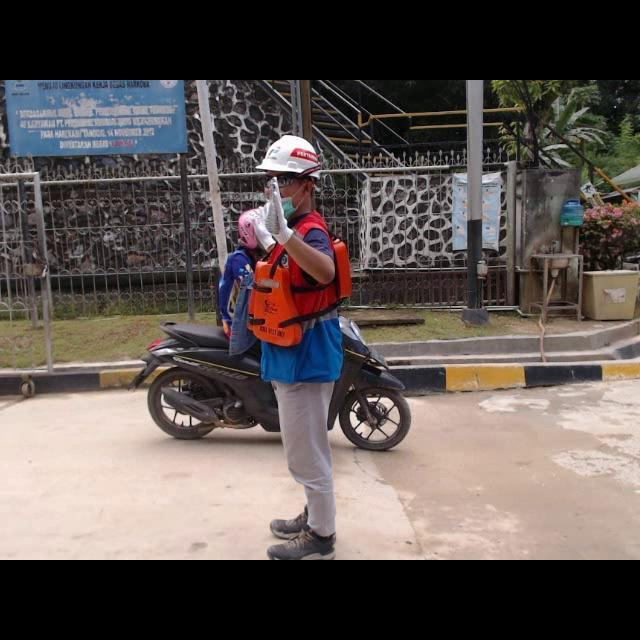Gloves: (260, 180, 291, 241), (251, 204, 274, 246)
Hardhat: (252, 130, 319, 176), (237, 205, 261, 247)
NO-Safety Vest: (223, 251, 255, 314)
Person: (246, 128, 350, 560), (217, 209, 258, 330)
Safety Vest: (245, 219, 349, 342)
